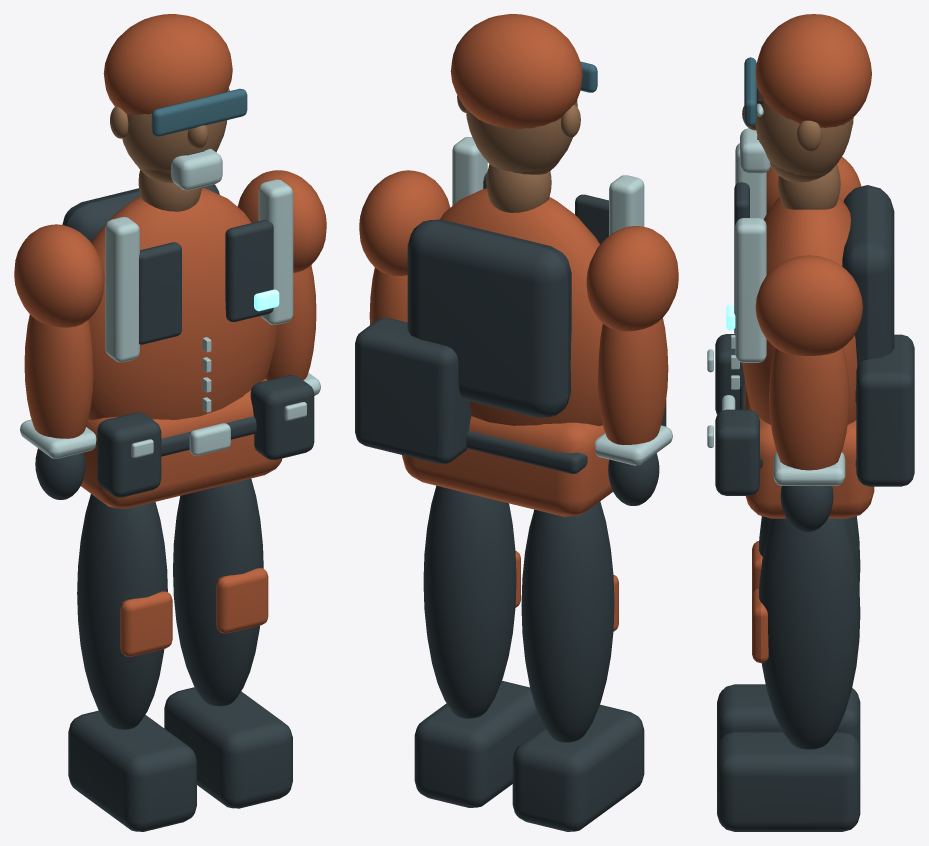
File: npc-rook.glb
3 renders of one model, left to right at view 1: azimuth 30°, elevation 25°; view 2: azimuth 150°, elevation 25°; view 3: azimuth 270°, elevation 25°, orthographic. The views are drawn at different scales.
Parts seen in each view (by area): view 1: Coat torso, Trouser, Trouser.001, Boot, Boot.001, Protective helmet, Coat hem, Shoulder, Sleeve, Shoulder harness, Hip pouch, Hip pouch.001 (+16 smaller); view 2: Back armor, Trouser, Trouser.001, Courier satchel, Protective helmet, Boot, Coat hem, Coat torso, Boot.001, Shoulder, Sleeve, Shoulder.001 (+9 smaller); view 3: Trouser.001, Boot.001, Protective helmet, Shoulder.001, Sleeve.001, Courier satchel, Back armor, Coat torso, Shoulder harness.001, Coat hem, Face, Hip pouch.001 (+15 smaller).
Part boxes in pixels (<box>): Coat torso: <box>88,187,276,420</box>; Trouser: <box>77,494,167,729</box>; Trouser.001: <box>173,478,263,706</box>; Boot: <box>68,710,196,831</box>; Boot.001: <box>164,687,292,808</box>; Protective helmet: <box>103,14,232,114</box>; Coat hem: <box>81,378,281,508</box>; Shoulder: <box>14,224,104,327</box>; Sleeve: <box>24,314,93,438</box>; Shoulder harness: <box>105,217,139,362</box>; Hip pouch: <box>97,412,161,497</box>; Hip pouch.001: <box>250,375,314,459</box>; Back armor: <box>407,219,571,417</box>; Trouser: <box>521,501,614,742</box>; Trouser.001: <box>423,485,516,718</box>; Courier satchel: <box>355,318,471,463</box>; Protective helmet: <box>450,14,582,129</box>; Boot: <box>512,704,644,831</box>; Coat hem: <box>402,416,612,516</box>; Coat torso: <box>439,188,602,426</box>; Boot.001: <box>414,680,544,807</box>; Shoulder: <box>586,226,678,331</box>; Sleeve: <box>598,318,668,444</box>; Shoulder.001: <box>359,170,450,275</box>; Trouser.001: <box>758,518,860,749</box>; Boot.001: <box>717,731,860,831</box>; Protective helmet: <box>755,14,871,127</box>; Shoulder.001: <box>755,255,862,355</box>; Sleeve.001: <box>769,347,849,470</box>; Courier satchel: <box>856,334,914,486</box>; Back armor: <box>842,185,894,403</box>; Coat torso: <box>742,197,857,424</box>; Shoulder harness.001: <box>735,218,766,362</box>; Coat hem: <box>745,384,874,518</box>; Face: <box>755,86,853,175</box>; Hip pouch.001: <box>715,409,759,495</box>.
Bounding box in the file's own units: 0.772 × 1.91 × 0.4625.
